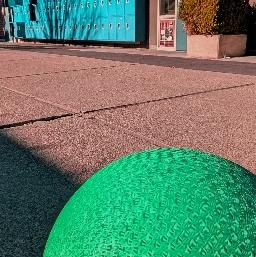algae: (34, 146, 256, 257)
